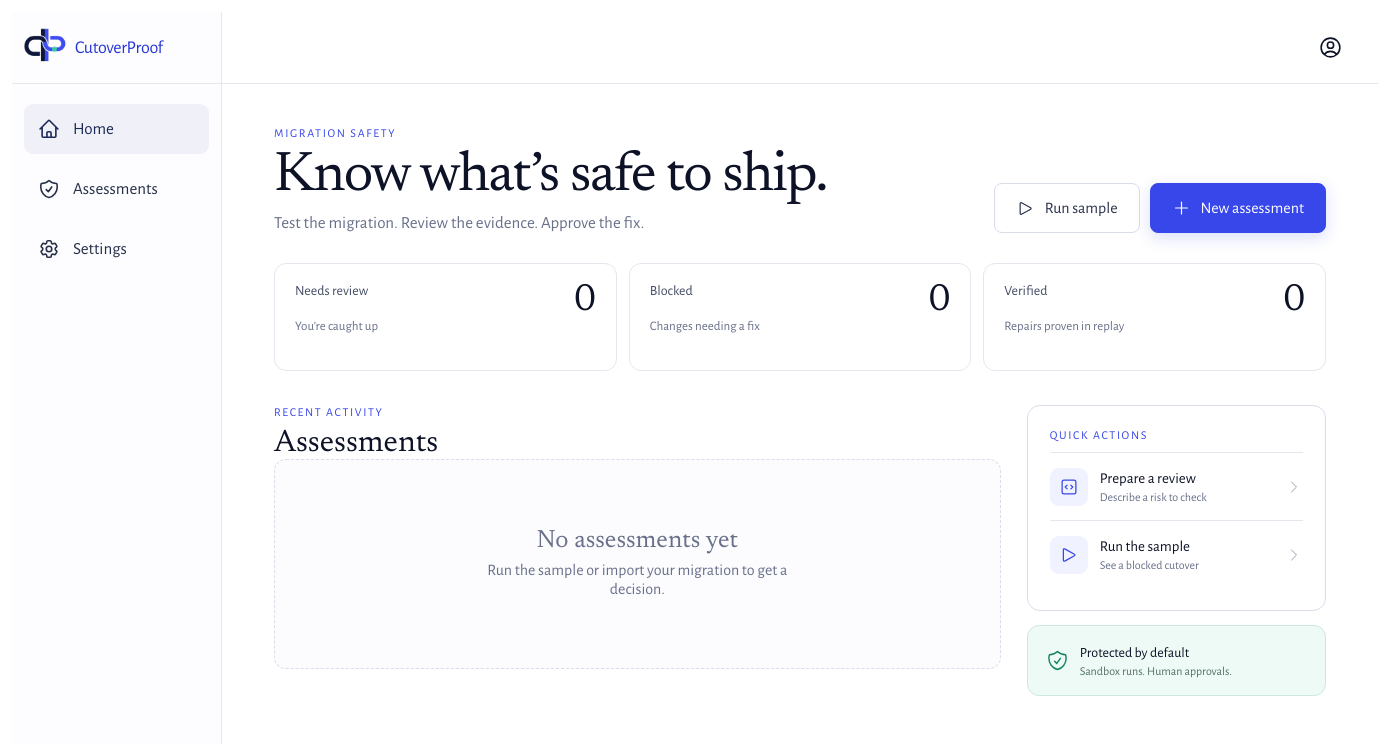
CutoverProof customer workspace › saves customer assessment defaults from settings
The image size is (1378, 744).
Click the button "Settings" at (116, 249), box [24,224,209,274]
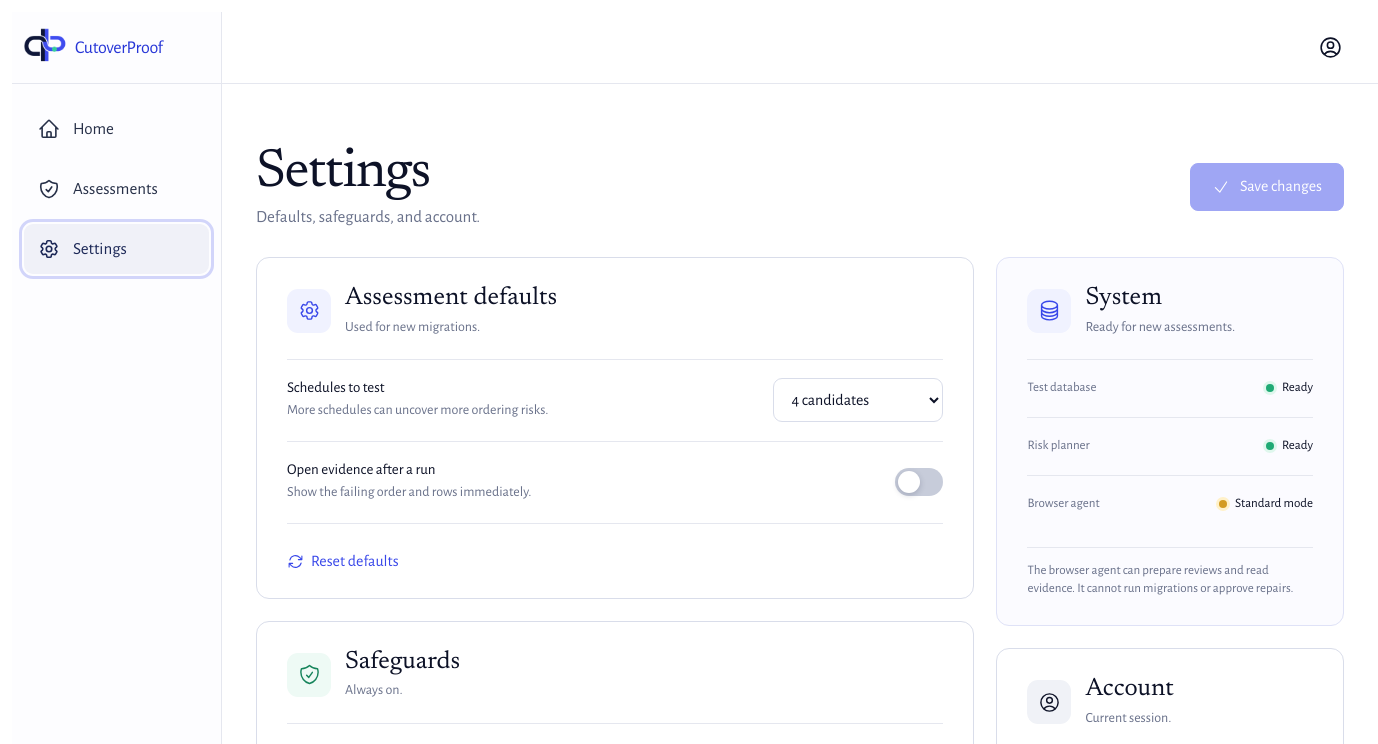
Check: the heading "Assessment defaults" is shown, box [345,286,557,311]
Select "6 candidates" in the dropdown labelled "Schedules to test" at (858, 400), box [773,378,943,422]
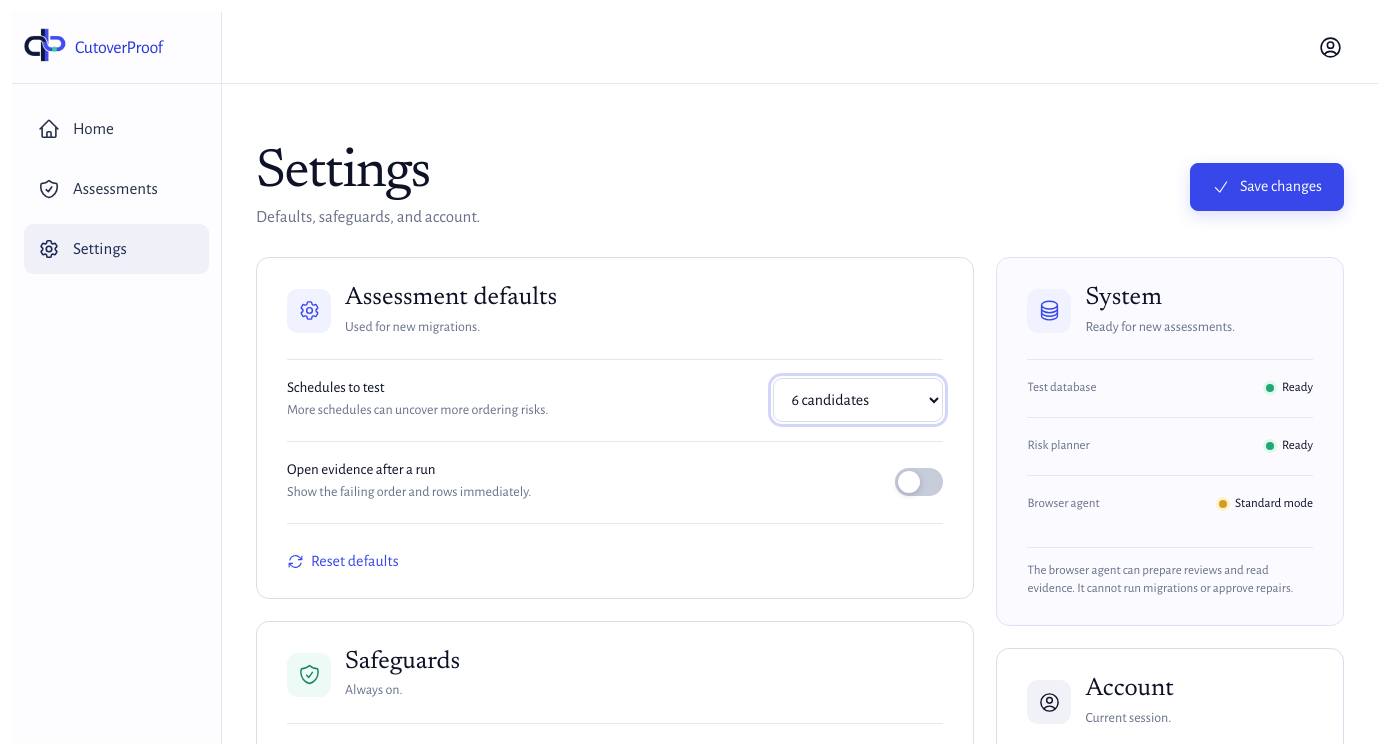
Click the switch named "Open evidence after a run" at (919, 482), box [895,468,943,496]
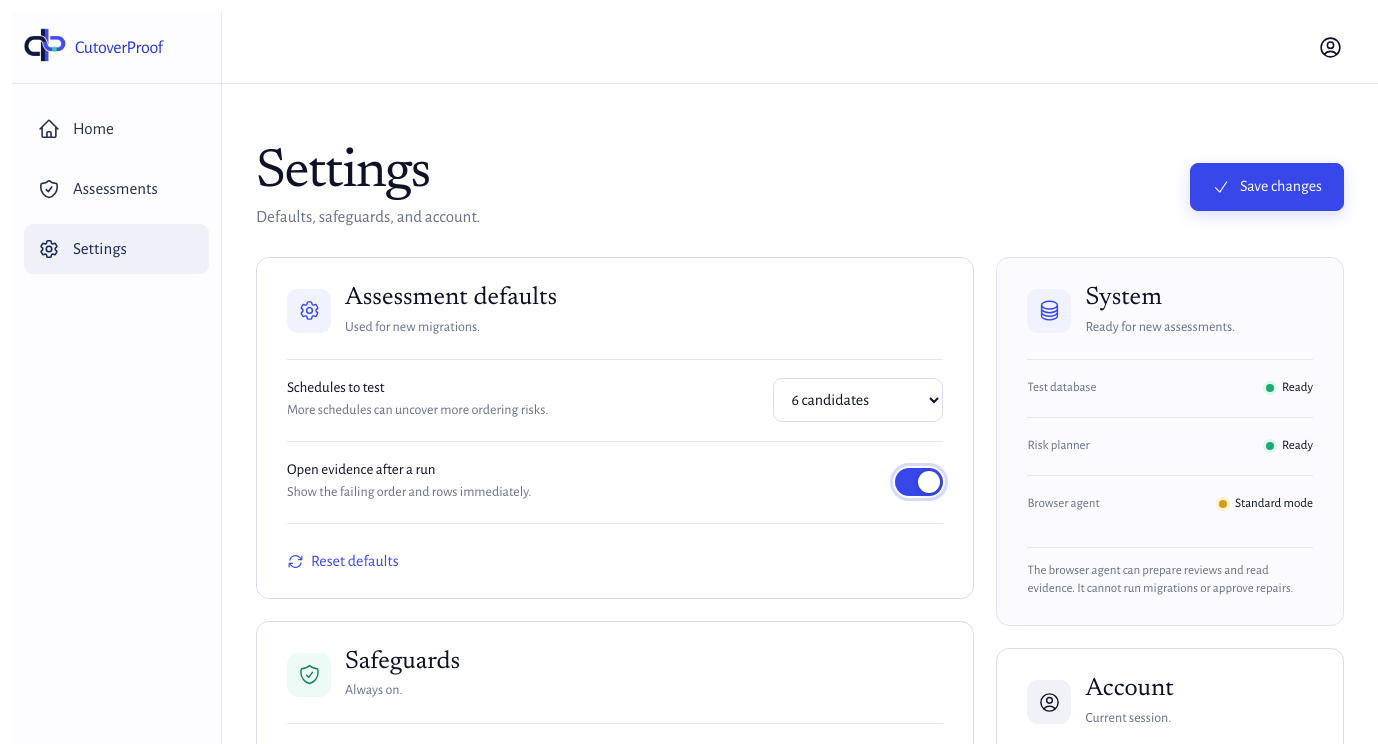
Click the button "Save changes" at (1267, 186), box [1190,162,1344,210]
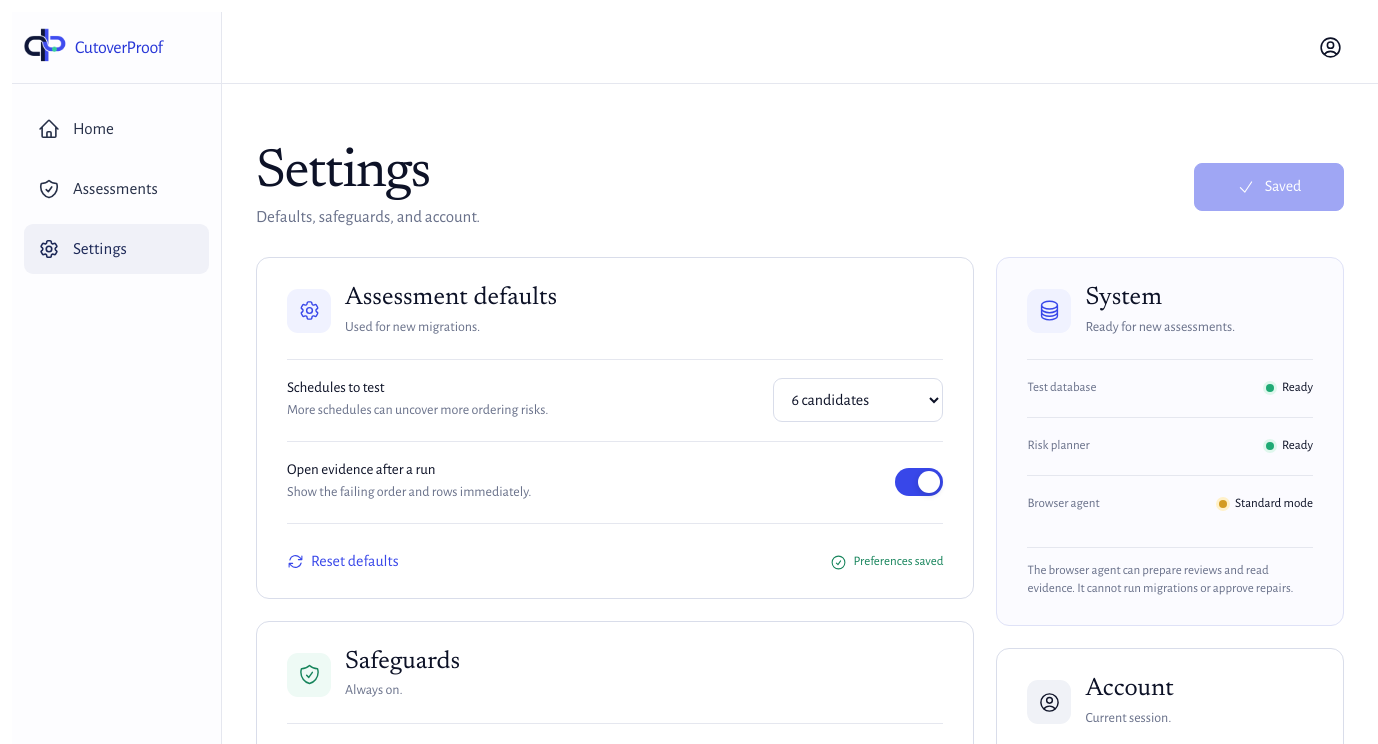
Check: the text "Preferences saved" is shown, box [830,554,943,571]
